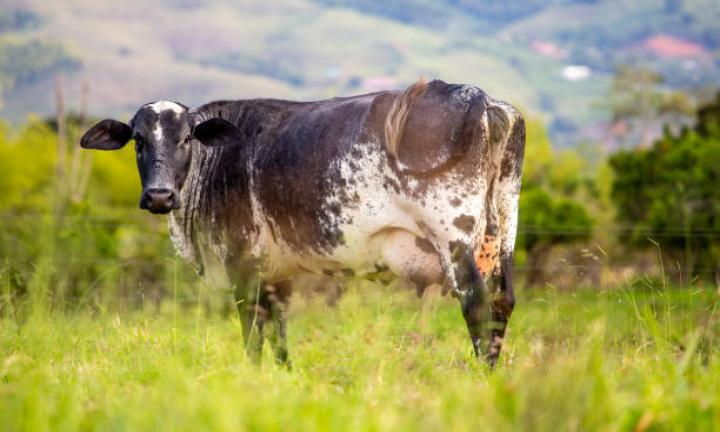Brahman: (80, 79, 524, 363)
